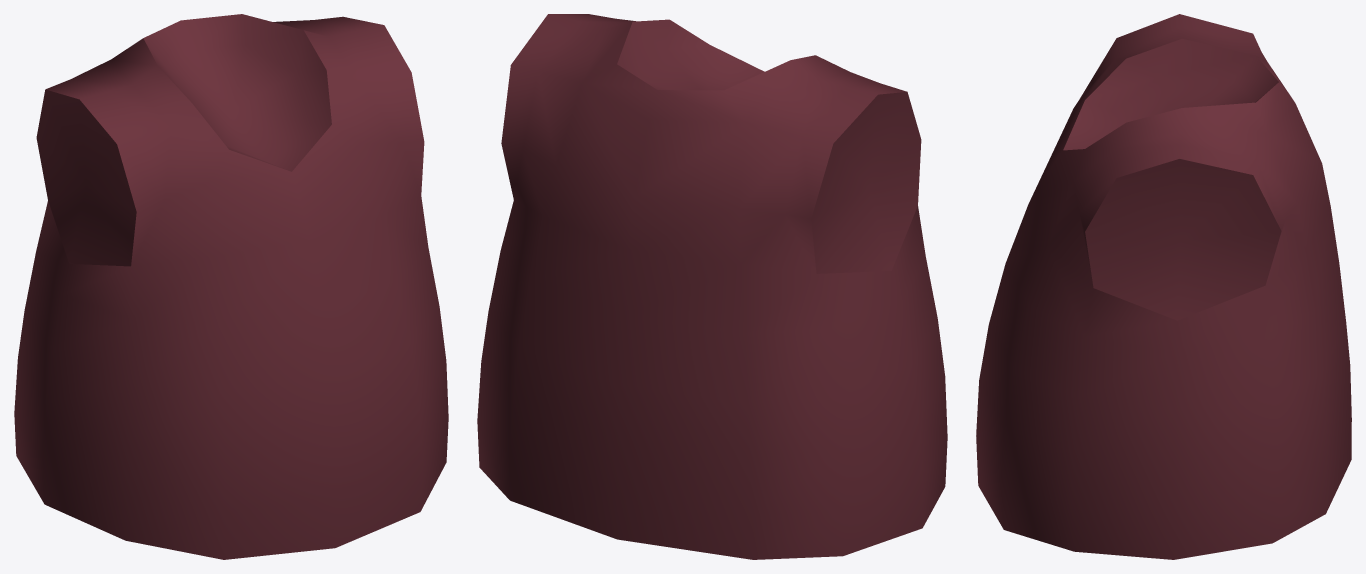
Rendered from Top_66.fbx.
3 views of the same model, side by side, from view 1: azimuth 30°, elevation 25°; view 2: azimuth 150°, elevation 25°; view 3: azimuth 270°, elevation 25° (orthographic). The views are drawn at different scales.
Visible parts, largest first — view 1: Top_66; view 2: Top_66; view 3: Top_66.
Part boxes in pixels (x1,y1,x2,y2): Top_66: (14, 14, 448, 559); Top_66: (477, 14, 947, 559); Top_66: (976, 14, 1351, 559).
Size of the model in its own units: 41 by 43.35 by 35.79.
